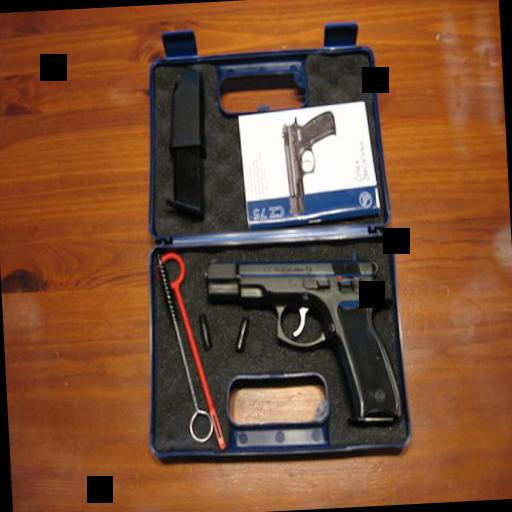Handgun: (200, 250, 402, 432), (278, 112, 340, 216)
